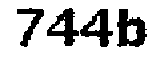4: (80, 6, 114, 52), (45, 6, 81, 49)
7: (16, 5, 44, 51)
b: (115, 4, 150, 52)
